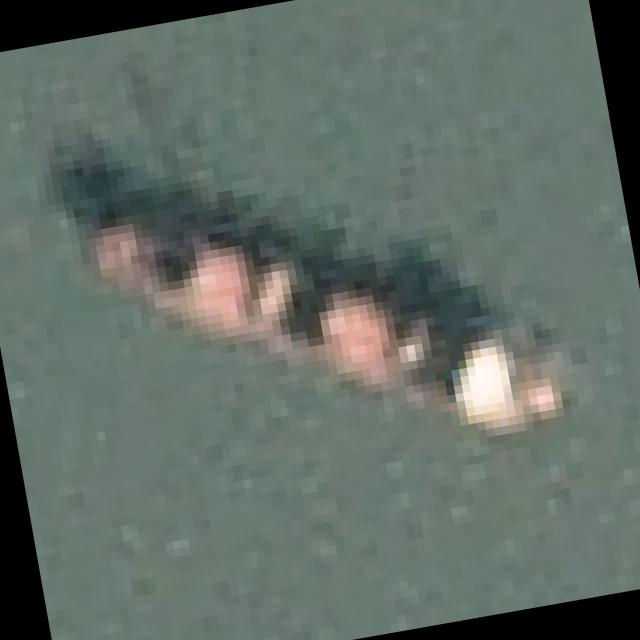ship: (43, 56, 610, 532)
